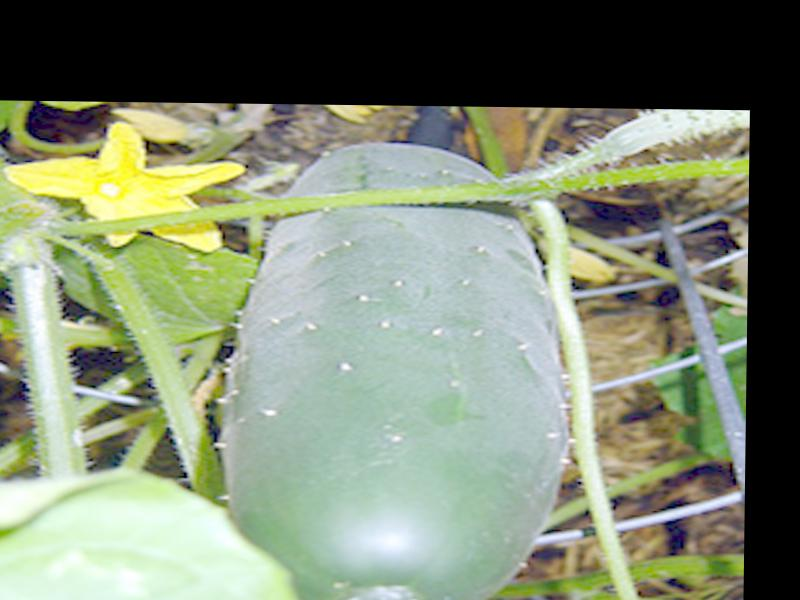Cucumber: (220, 145, 569, 600)
